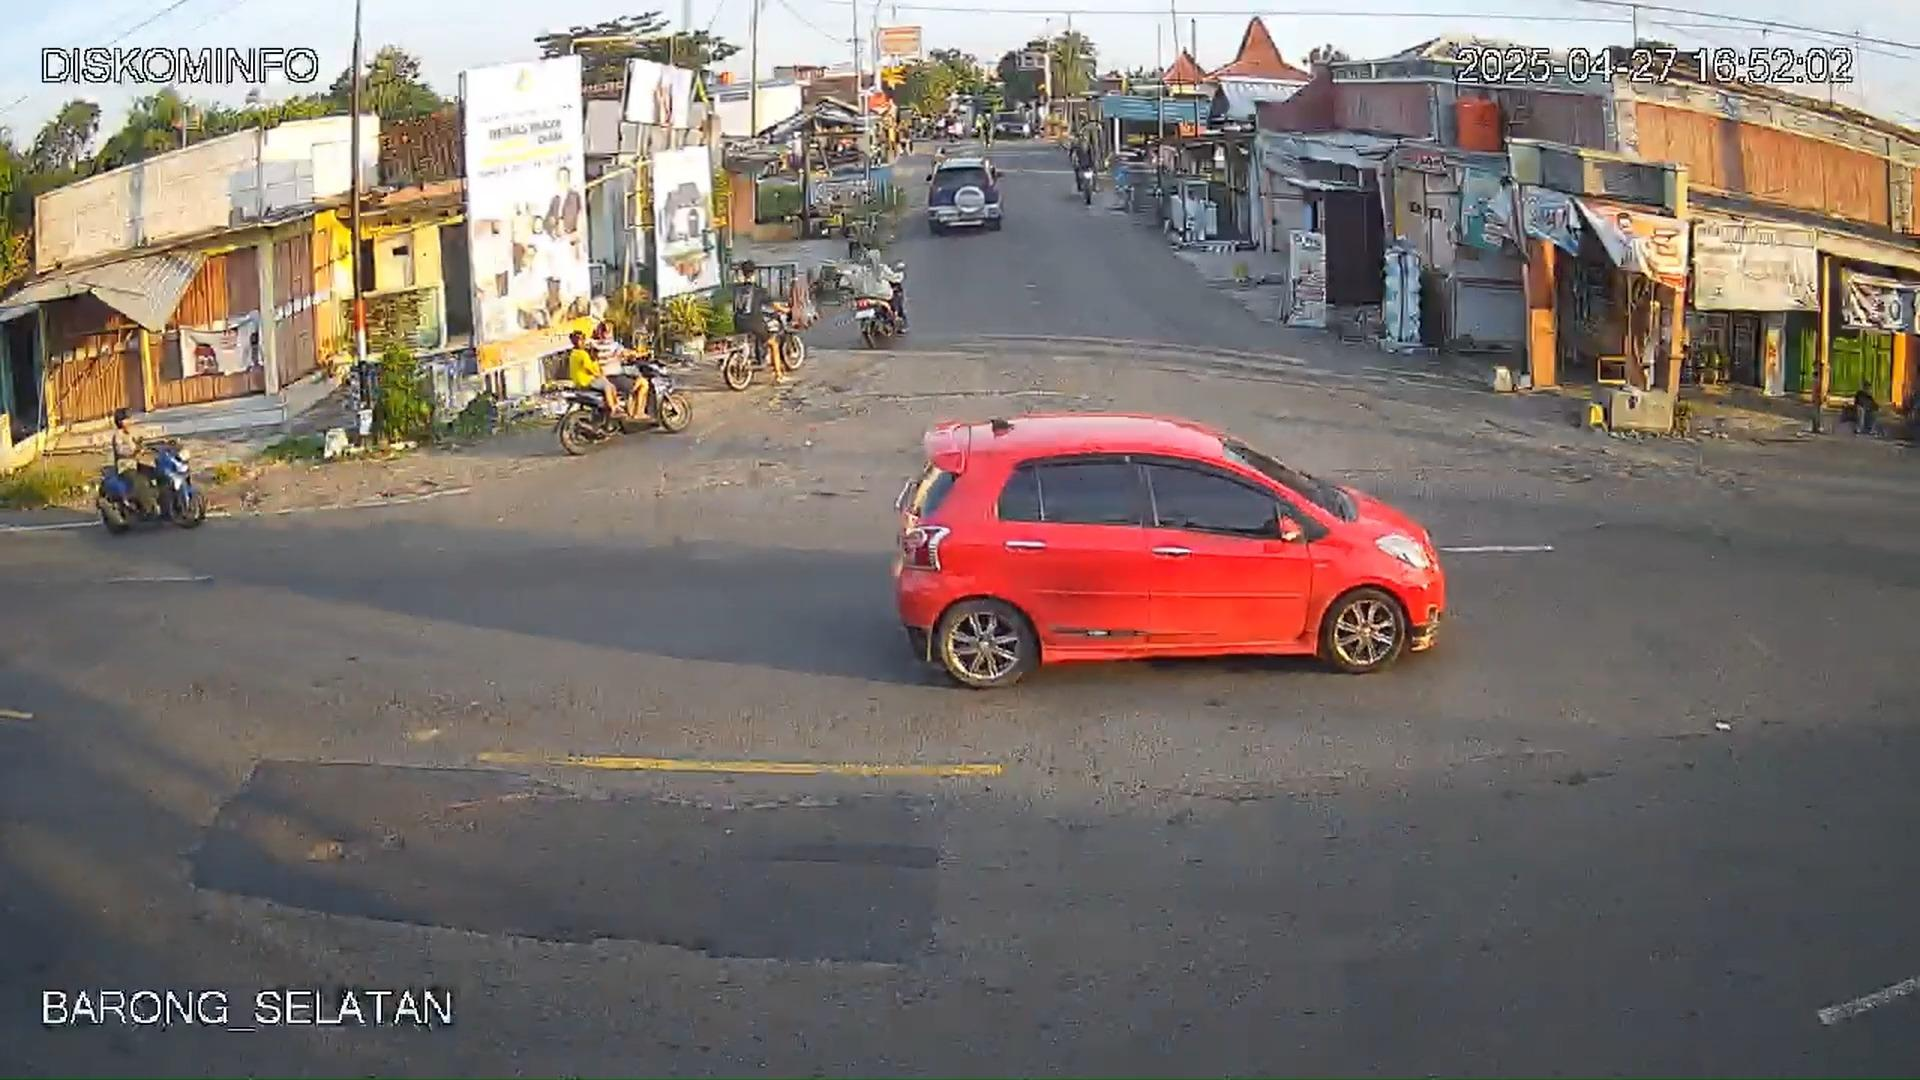Motor: (558, 353, 696, 455), (95, 438, 211, 535), (720, 301, 800, 390)
mobil: (897, 413, 1432, 688)
